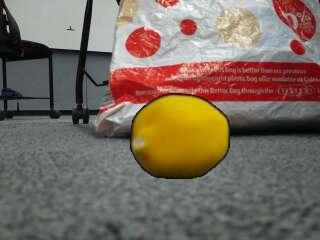lemon: (131, 95, 228, 178)
